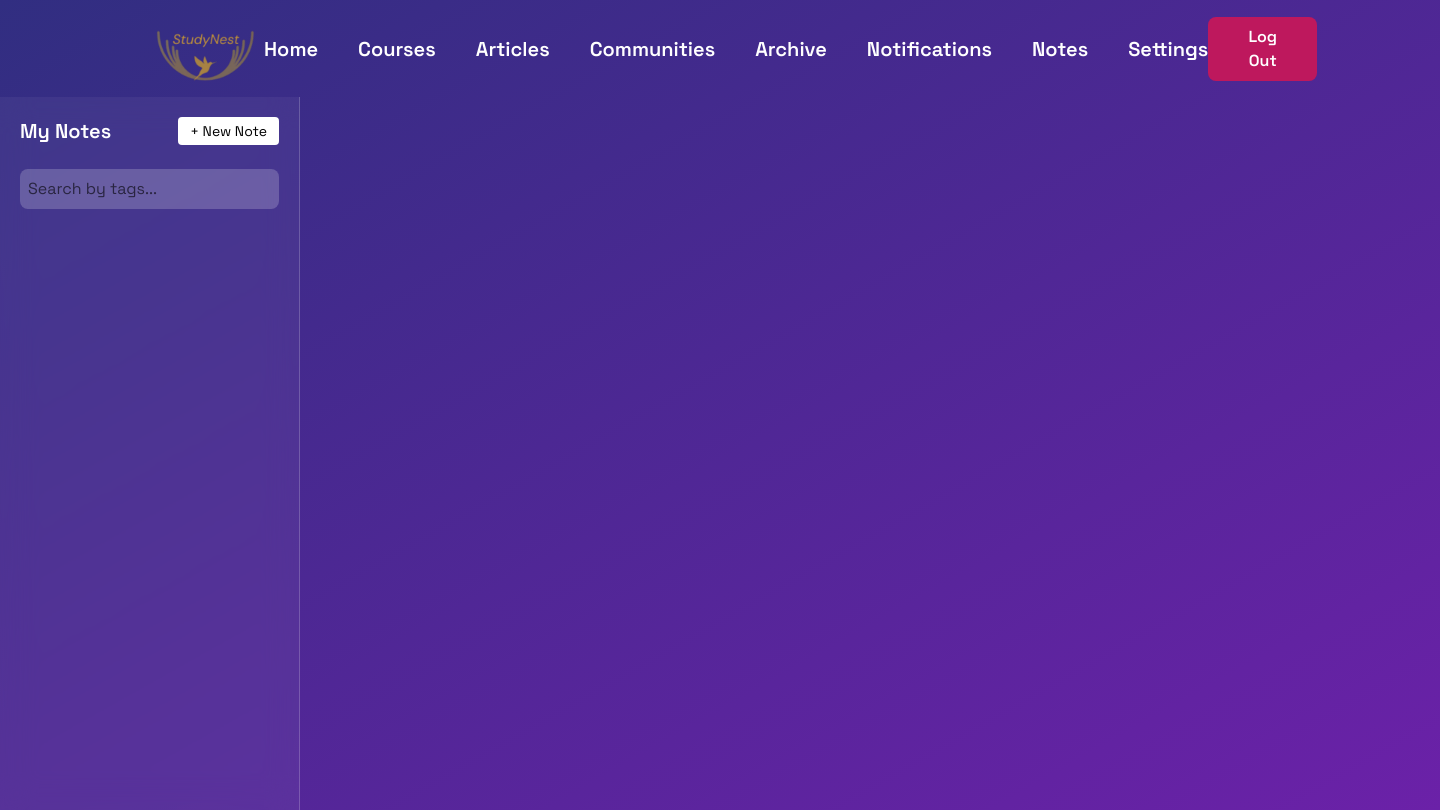
Test: NotesPage › opens the editor when clicking + New Note
The width and height of the screenshot is (1440, 810).
What coordinates should you click on to do the following:
click the button "+ New Note"
I would click on:
 (229, 131)
Its box is [178,117,279,145].
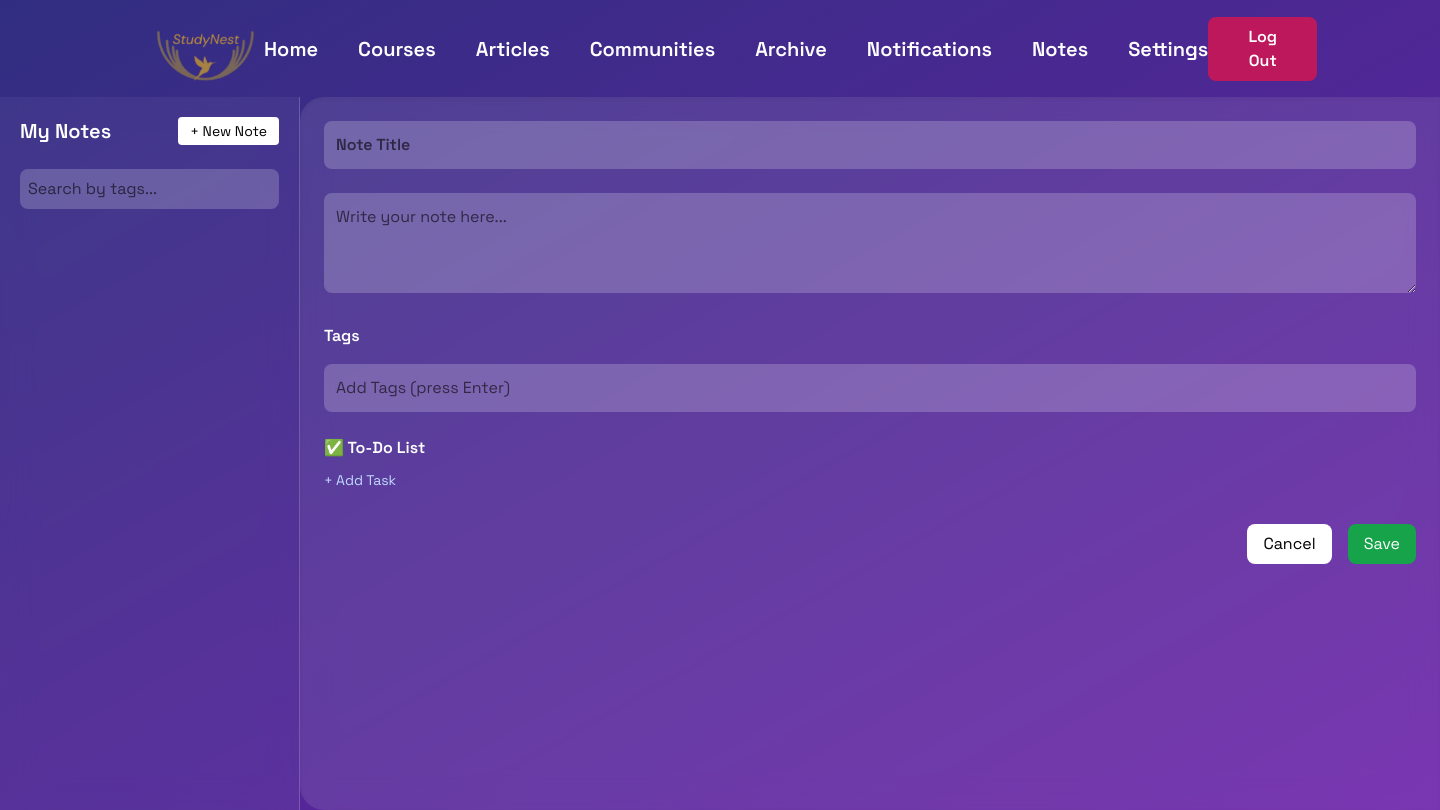
Check: the field with placeholder "Note Title" is shown, box [324,121,1416,169]
